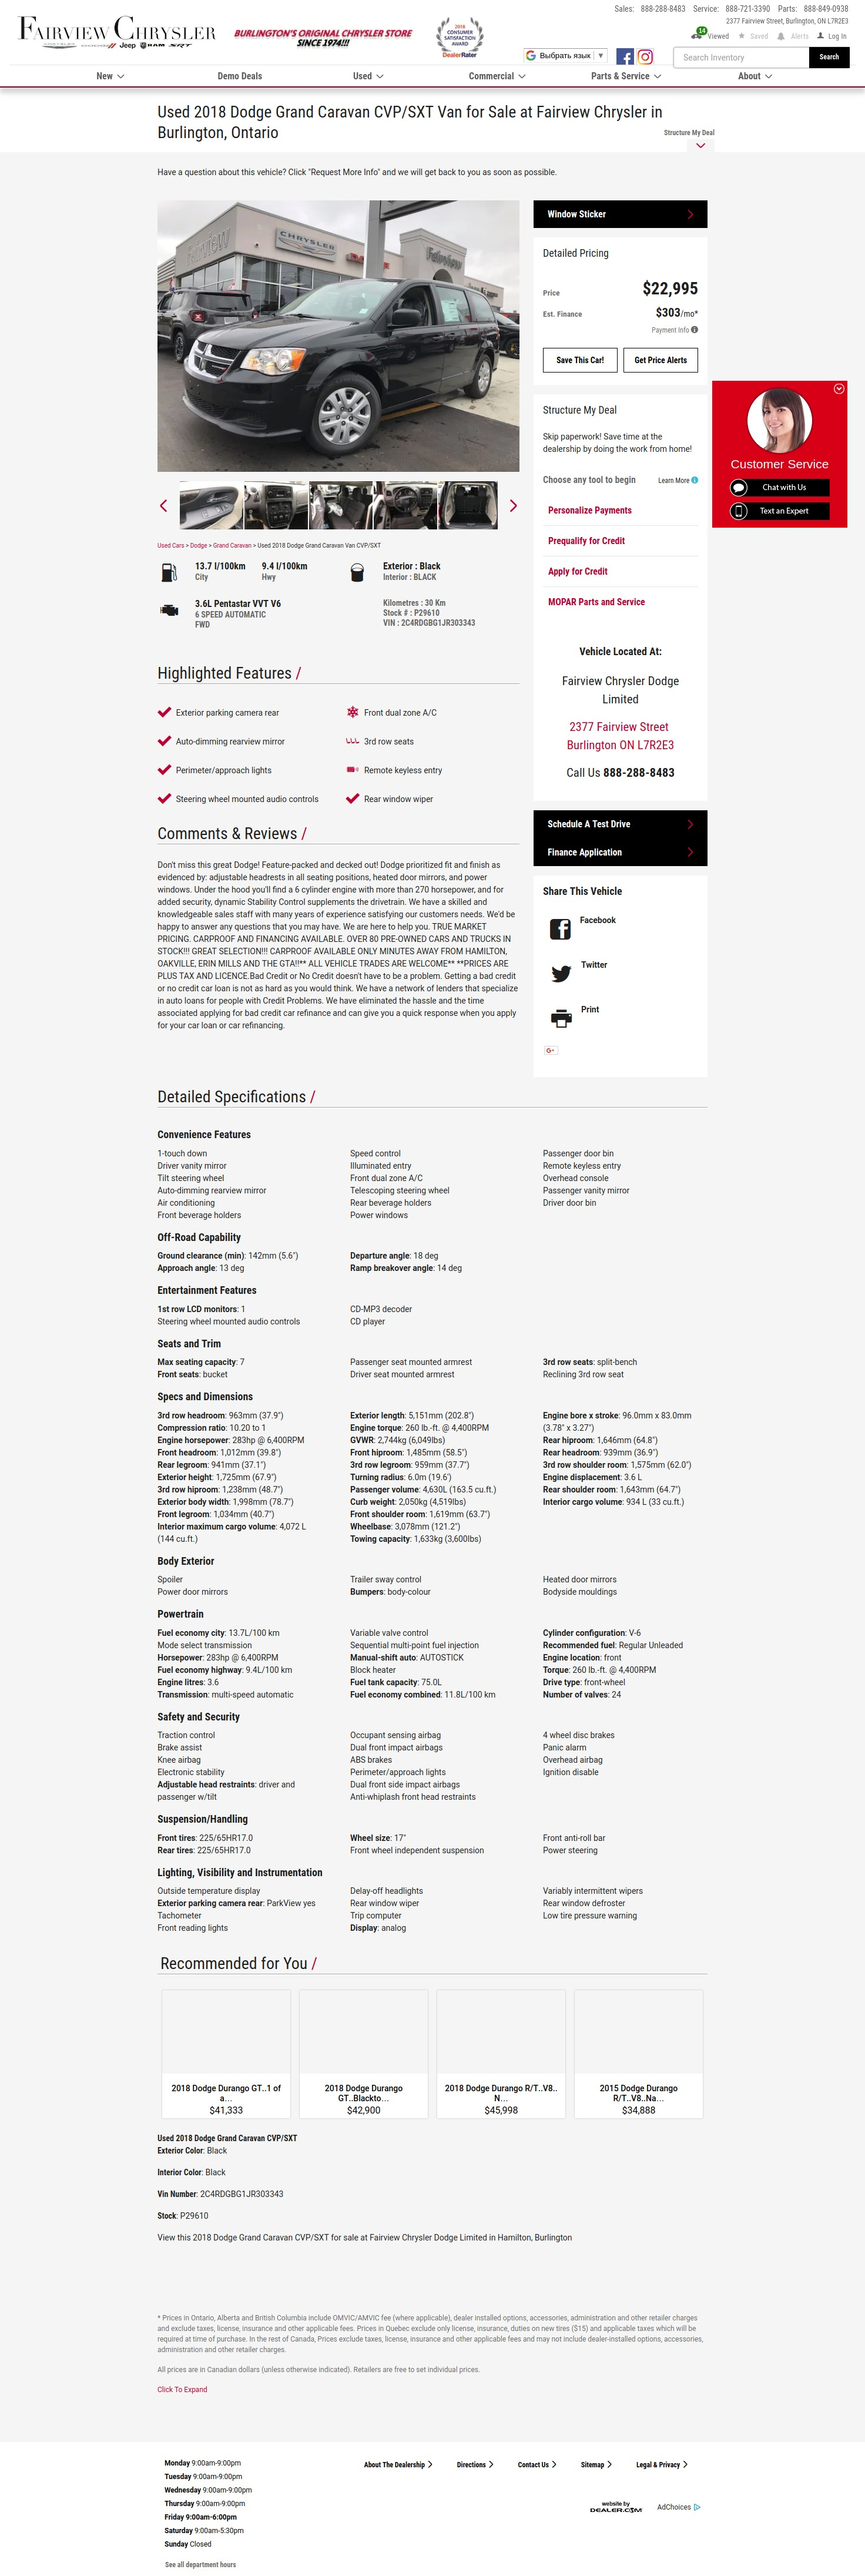car: (510, 501, 516, 514)
